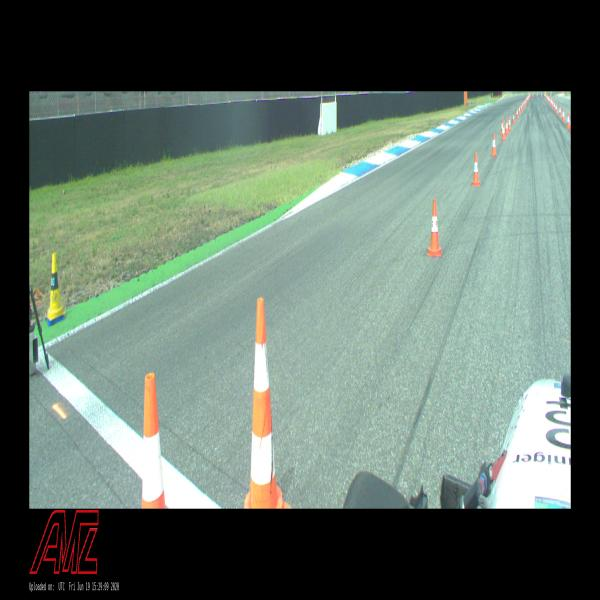large_orange_cone: (243, 298, 291, 509), (142, 373, 165, 509)
orange_cone: (427, 200, 442, 256), (472, 152, 480, 186), (491, 134, 497, 157), (502, 123, 506, 140), (505, 118, 509, 134), (508, 115, 512, 130), (562, 109, 566, 122), (567, 113, 570, 128), (501, 119, 503, 135), (516, 108, 519, 118), (518, 105, 521, 115), (559, 105, 561, 117), (513, 112, 515, 123), (556, 103, 558, 113)
yellow_cone: (47, 254, 65, 320)
